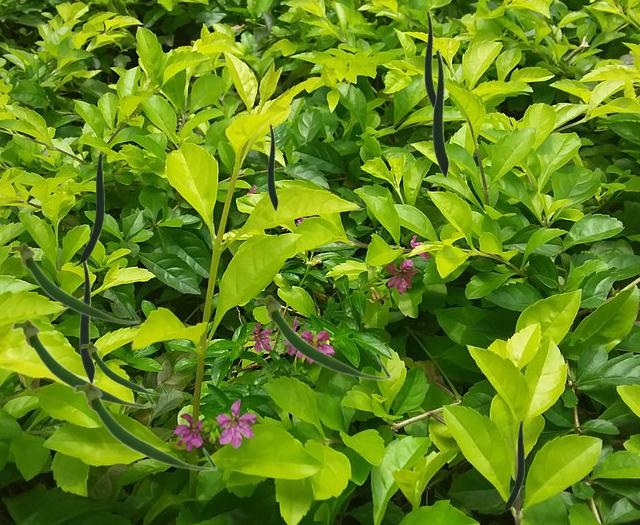french_bean: (10, 318, 155, 408), (72, 381, 217, 471), (253, 294, 391, 380), (8, 242, 140, 324), (80, 341, 167, 395), (73, 152, 103, 265), (500, 420, 523, 512), (432, 48, 448, 177), (79, 260, 94, 383), (424, 10, 435, 107), (267, 123, 277, 210)
